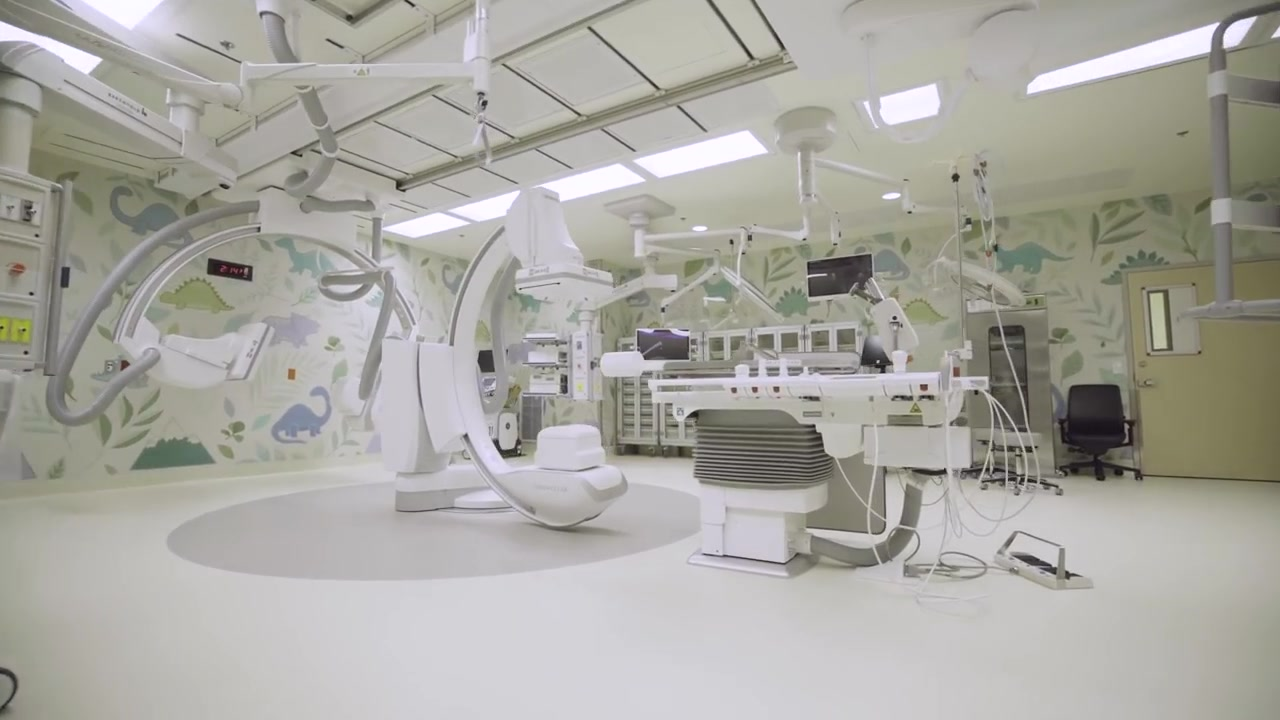bedside_monitor: (802, 249, 890, 303), (226, 323, 278, 382), (635, 327, 691, 363)
chair: (1058, 384, 1137, 481), (980, 432, 1062, 496), (961, 427, 1025, 483)
computer: (479, 349, 509, 372)
door_handle: (1136, 374, 1160, 390)
iv_pole: (930, 145, 995, 348)
medical_drawer: (659, 330, 704, 457), (617, 338, 658, 454), (804, 325, 860, 373), (751, 327, 804, 360), (702, 329, 751, 360)
operating_bed: (644, 368, 994, 581)
surgical_light: (944, 261, 1024, 307)
